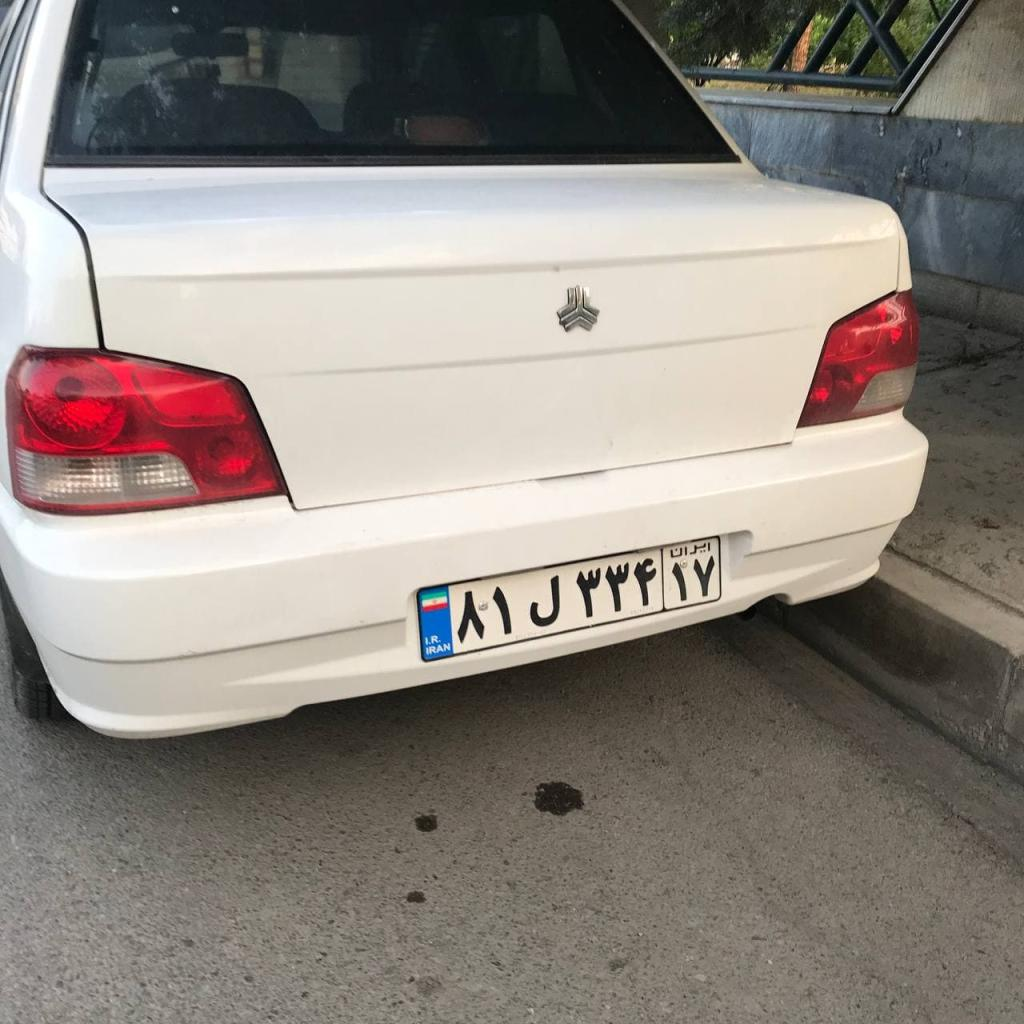Plates: (417, 536, 721, 663)
